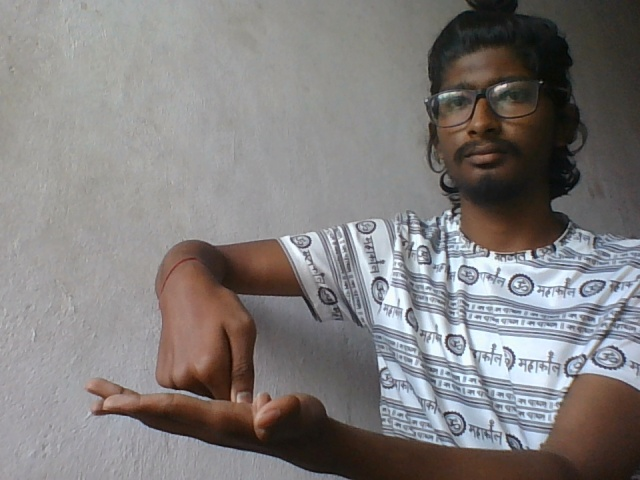What: (76, 230, 338, 466)
